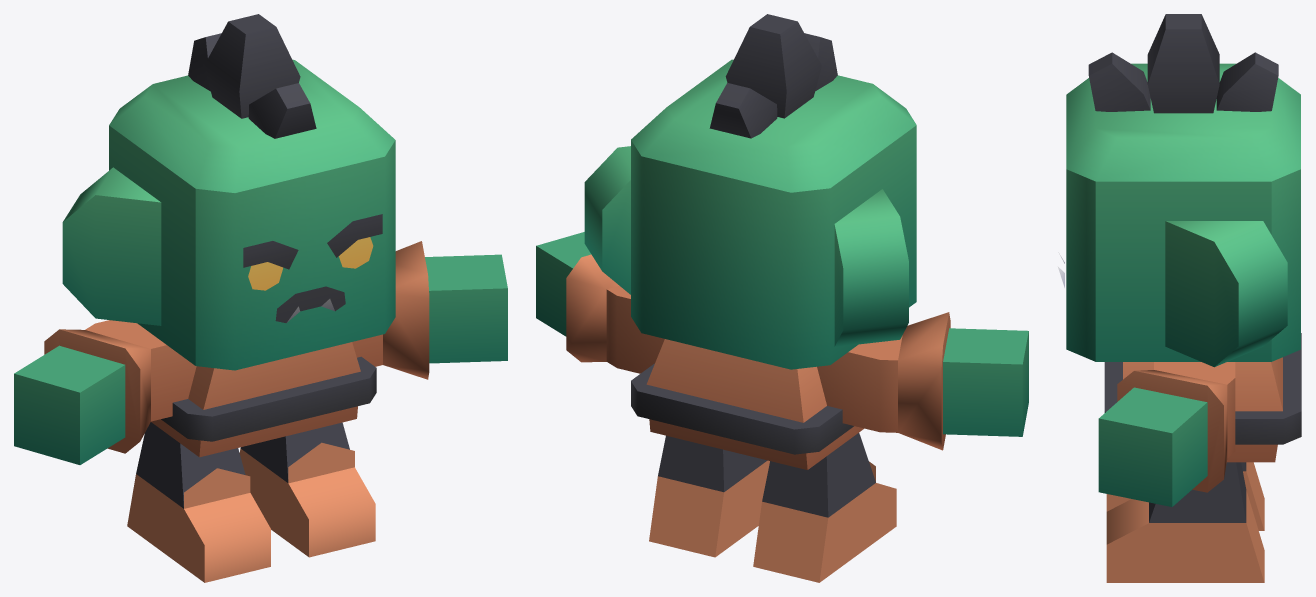
File: character-orc.glb
3 views of the same model, side by side, from view 1: azimuth 30°, elevation 25°; view 2: azimuth 150°, elevation 25°; view 3: azimuth 270°, elevation 25° (orthographic).
Visible parts, largest first — view 1: head-mesh, body-mesh; view 2: head-mesh, body-mesh; view 3: head-mesh, body-mesh.
Part boxes in pixels (bbox=[...]): head-mesh: bbox=[62, 14, 395, 370]; body-mesh: bbox=[14, 241, 507, 582]; head-mesh: bbox=[584, 14, 916, 369]; body-mesh: bbox=[536, 232, 1028, 582]; head-mesh: bbox=[1057, 14, 1300, 367]; body-mesh: bbox=[1098, 333, 1301, 582].
Bounding box in the file's own units: 0.7806 × 0.7803 × 0.3325.
1 material, 1 textured.
